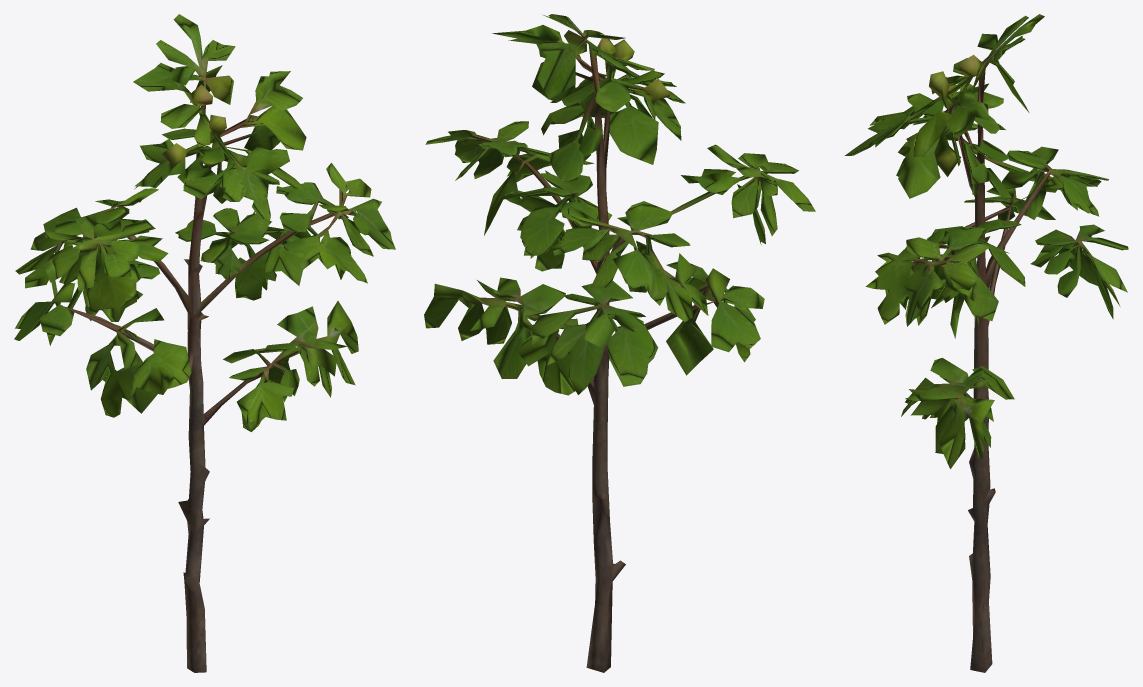
The model's file is surgun-tripo.glb.
3 renders of one model, left to right at view 1: azimuth 30°, elevation 25°; view 2: azimuth 150°, elevation 25°; view 3: azimuth 270°, elevation 25°, orthographic. The views are drawn at different scales.
Visible parts, largest first — view 1: tripo_node_c315836f-5cb0-4eb7-a173-c763161913f0; view 2: tripo_node_c315836f-5cb0-4eb7-a173-c763161913f0; view 3: tripo_node_c315836f-5cb0-4eb7-a173-c763161913f0.
Boxes of the visible parts, x1,y1,x2,y2 form: tripo_node_c315836f-5cb0-4eb7-a173-c763161913f0: (14,14,395,672); tripo_node_c315836f-5cb0-4eb7-a173-c763161913f0: (424,14,815,672); tripo_node_c315836f-5cb0-4eb7-a173-c763161913f0: (845,14,1128,672).
Bounding box in the file's own units: 0.5531 × 0.9718 × 0.3813.
1 material, 1 textured.
